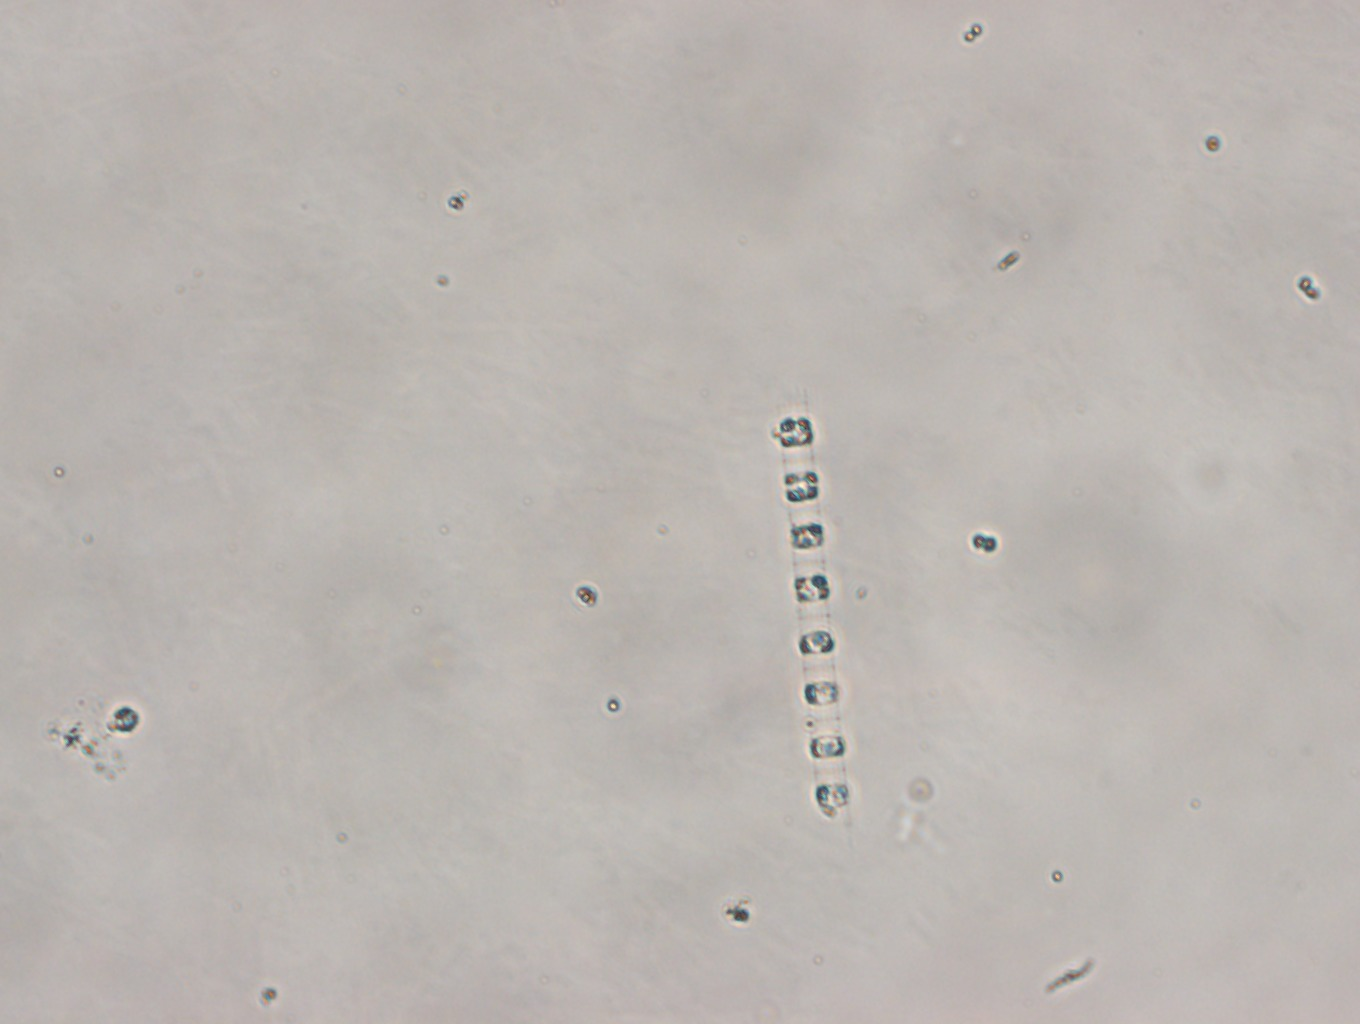skeletonema: (779, 383, 854, 825)
